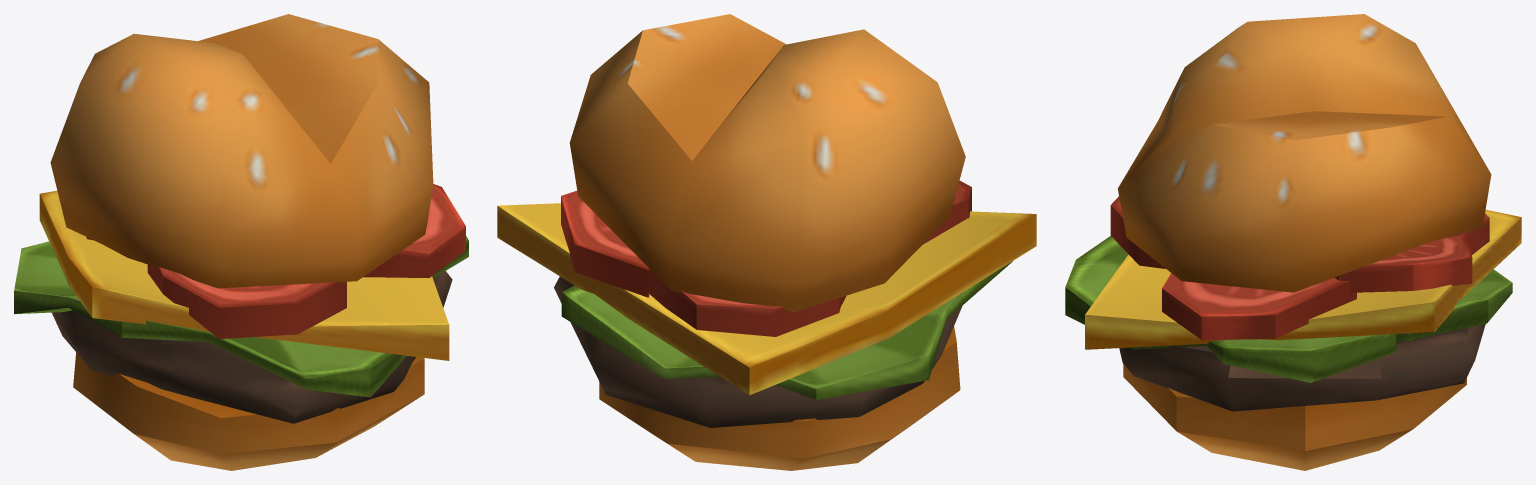
File: hamberger.FBX
The picture shows the model from 3 angles, left to right: view 1: azimuth 30°, elevation 25°; view 2: azimuth 150°, elevation 25°; view 3: azimuth 270°, elevation 25°; orthographic projection. The views are drawn at different scales.
Visible parts, largest first — view 1: hamburger; view 2: hamburger; view 3: hamburger.
Boxes of the visible parts, x1,y1,x2,y2 form: hamburger: (14, 14, 468, 470); hamburger: (497, 14, 1036, 470); hamburger: (1065, 14, 1521, 470).
Size of the model in its own units: 5.24 by 4.67 by 5.17.
